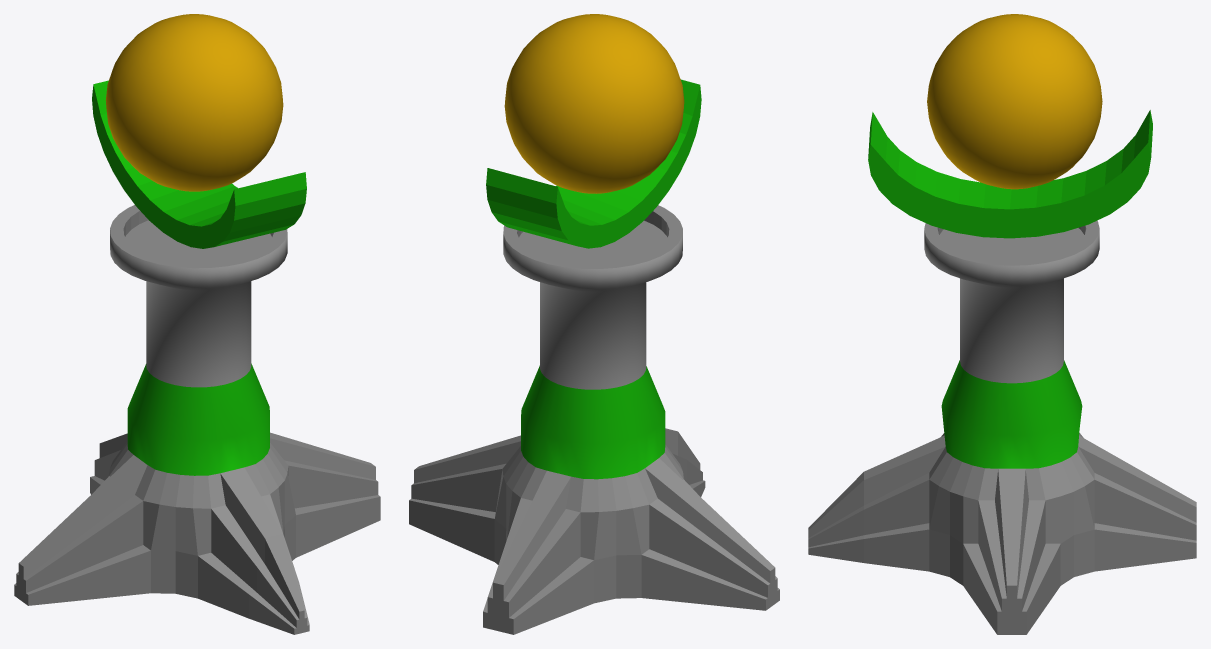
The model's file is Torreta_v_2.fbx.
3 renders of one model, left to right at view 1: azimuth 30°, elevation 25°; view 2: azimuth 150°, elevation 25°; view 3: azimuth 270°, elevation 25°, orthographic. The views are drawn at different scales.
Parts seen in each view (by area): view 1: BaseTorreta, EsferaTorreta; view 2: BaseTorreta, EsferaTorreta; view 3: BaseTorreta, EsferaTorreta.
Boxes of the visible parts, <box> form: BaseTorreta: <box>14,80,380,634</box>; EsferaTorreta: <box>105,14,283,191</box>; BaseTorreta: <box>409,79,779,634</box>; EsferaTorreta: <box>504,14,684,193</box>; BaseTorreta: <box>808,110,1196,634</box>; EsferaTorreta: <box>927,14,1102,189</box>.
Bounding box in the file's own units: 457 × 663 × 443.
